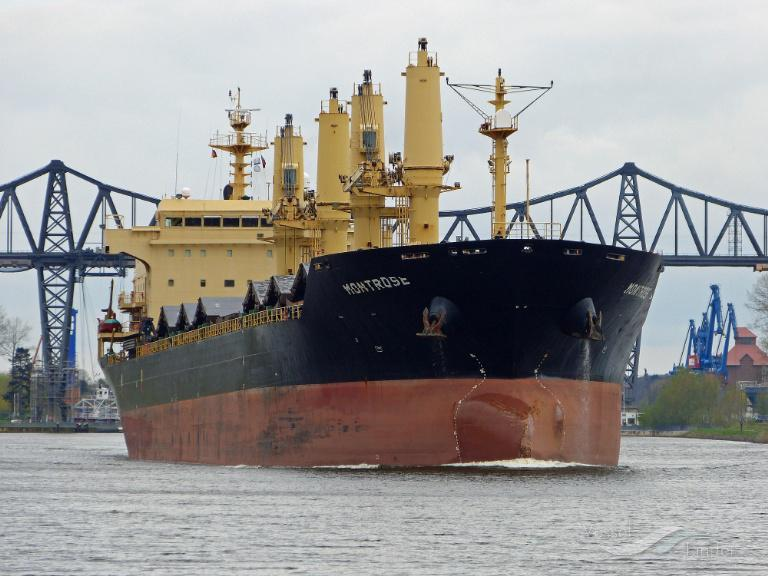OCR: (336, 277, 410, 301), (620, 277, 654, 299)
